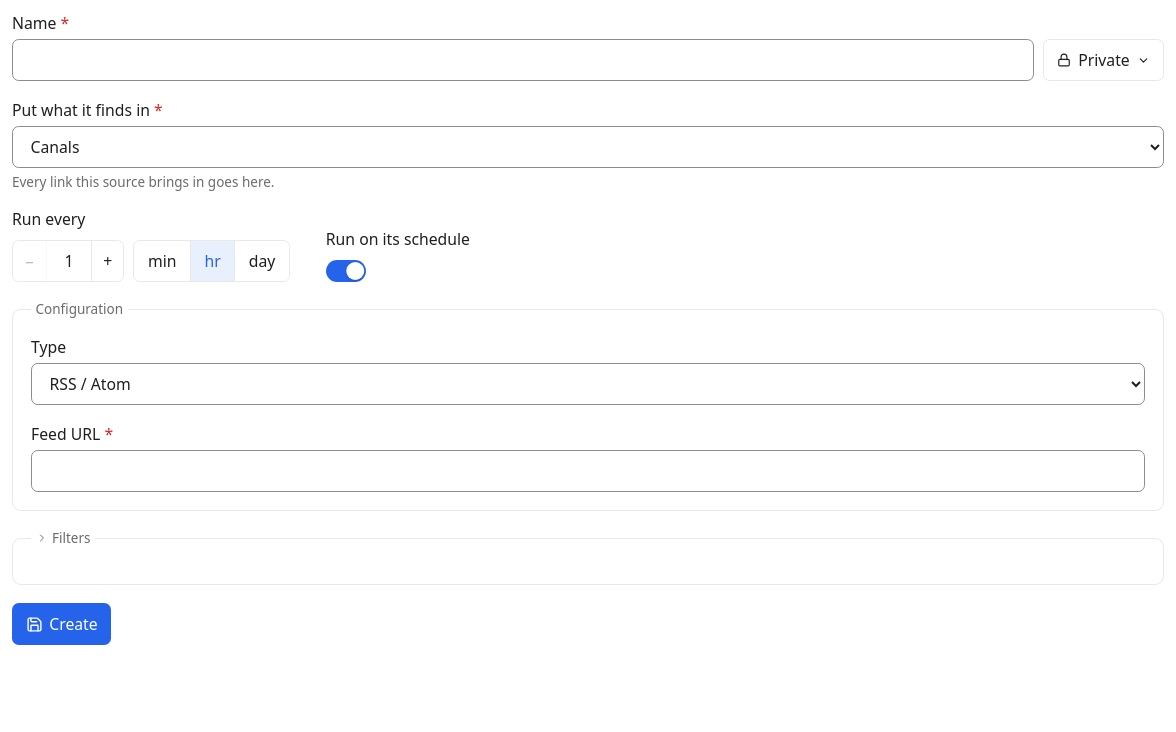
Scenario: SourceForm — creating › says which field is missing rather than sending the request
The width and height of the screenshot is (1176, 732).
Type "No address" into the field labelled "Name" at (523, 60), box 12,39 -> 1034,81
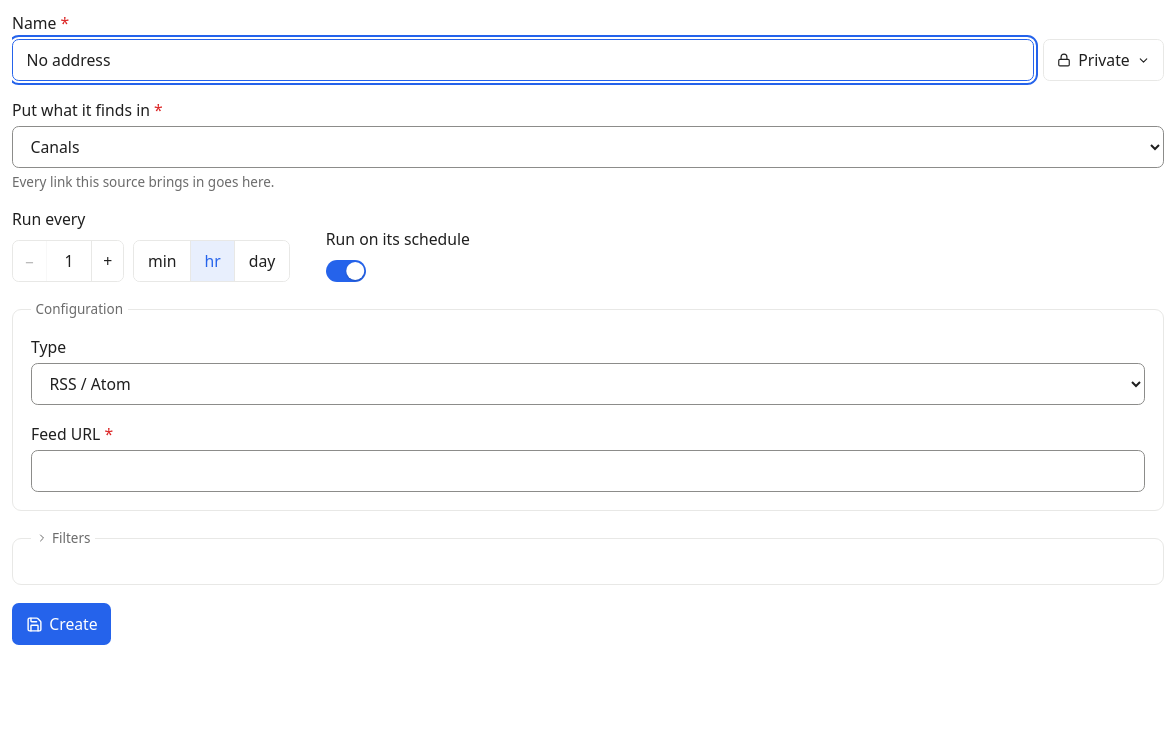
Click the button "Create" at (62, 624), box 12,603 -> 111,645
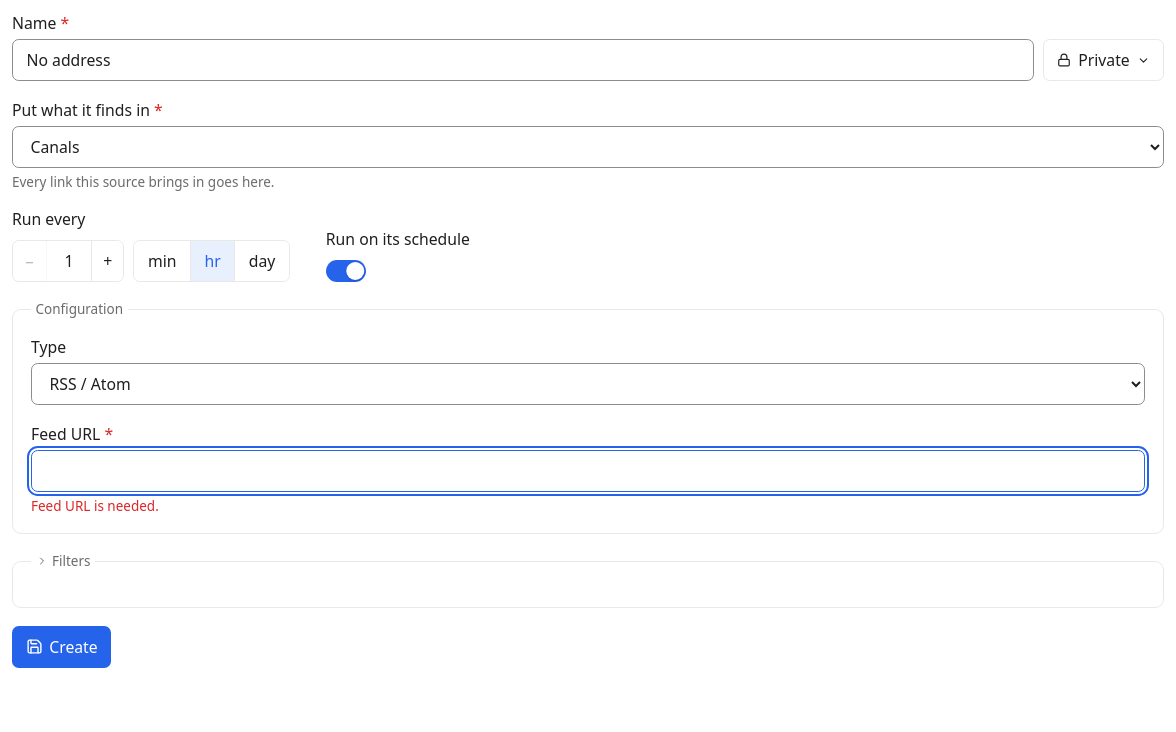
Now the message reads "Feed URL is needed.", box 31,497 -> 159,515
